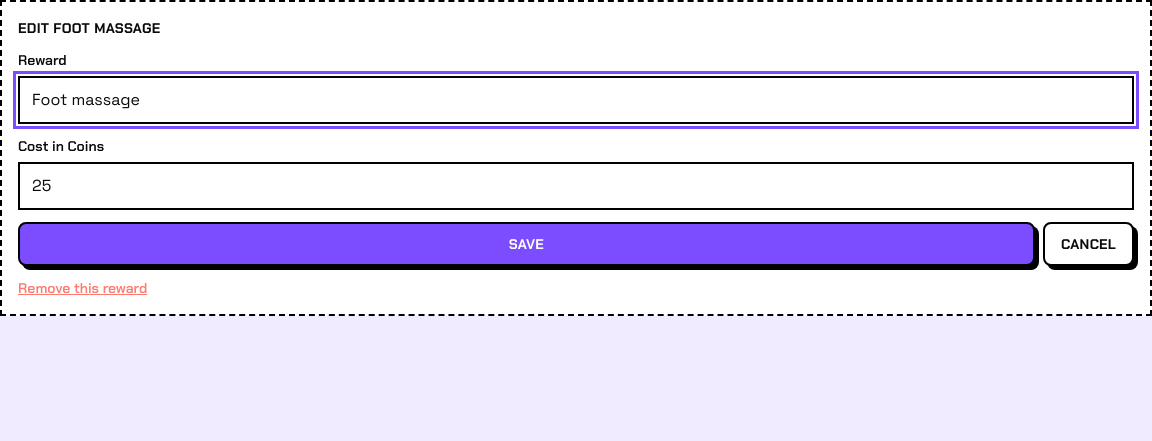
Test: removing › can be backed out of
Click the button "Remove this reward". click: click(83, 288)
box: x1=18 y1=278 x2=147 y2=298
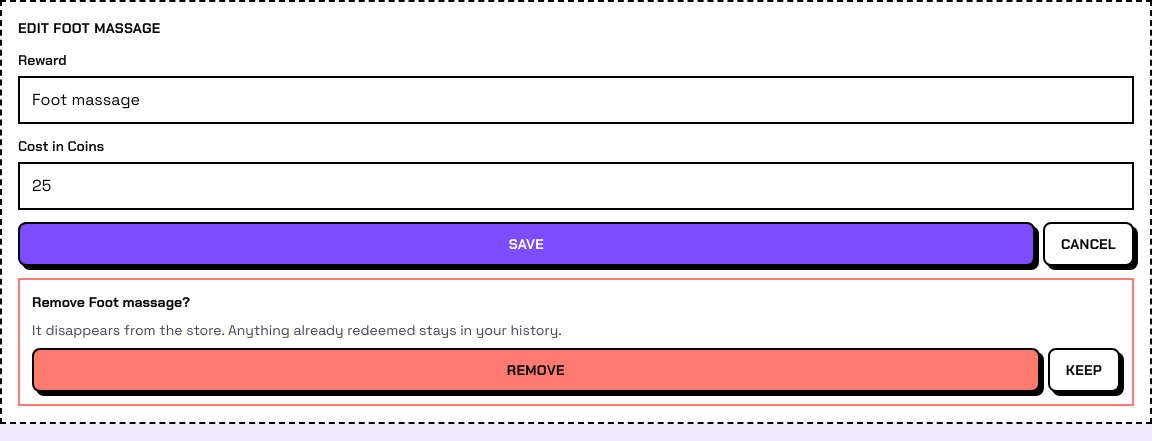
Click the button "Keep". click: click(1084, 370)
box: x1=1048 y1=348 x2=1120 y2=392
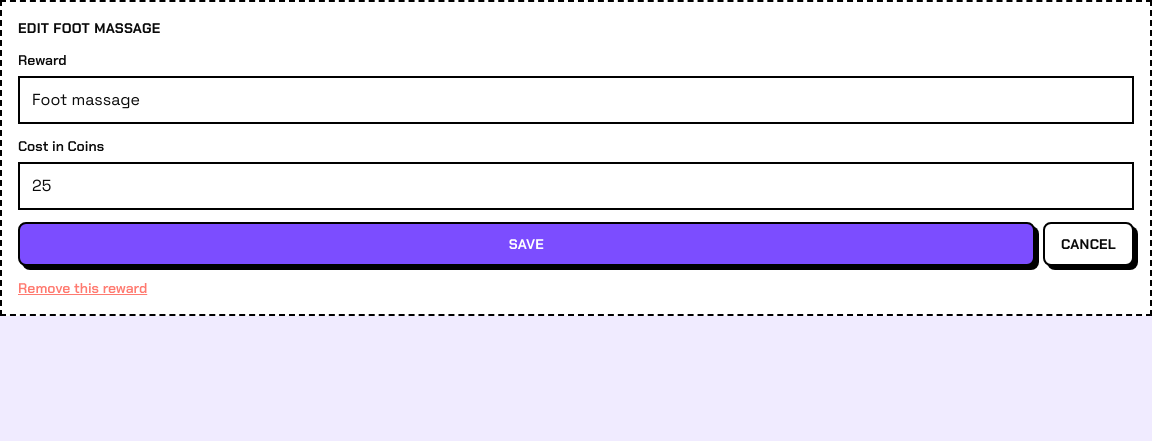
Check: the text "Remove Foot massage?" is gone
